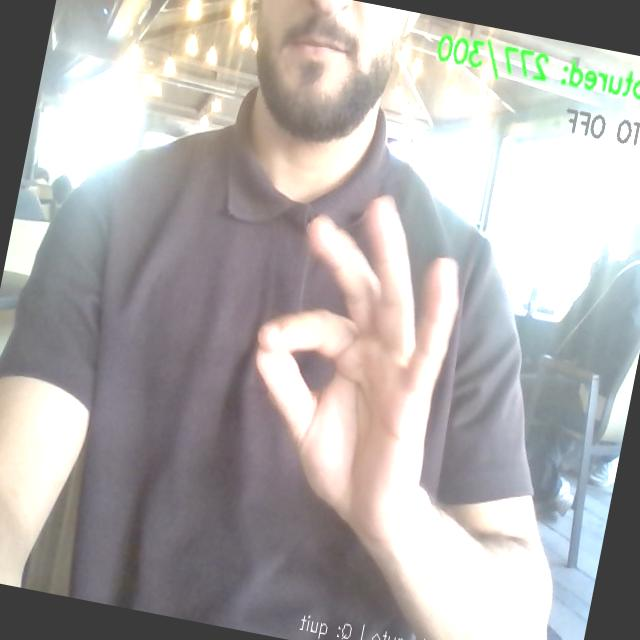Hand: (256, 198, 457, 542)
